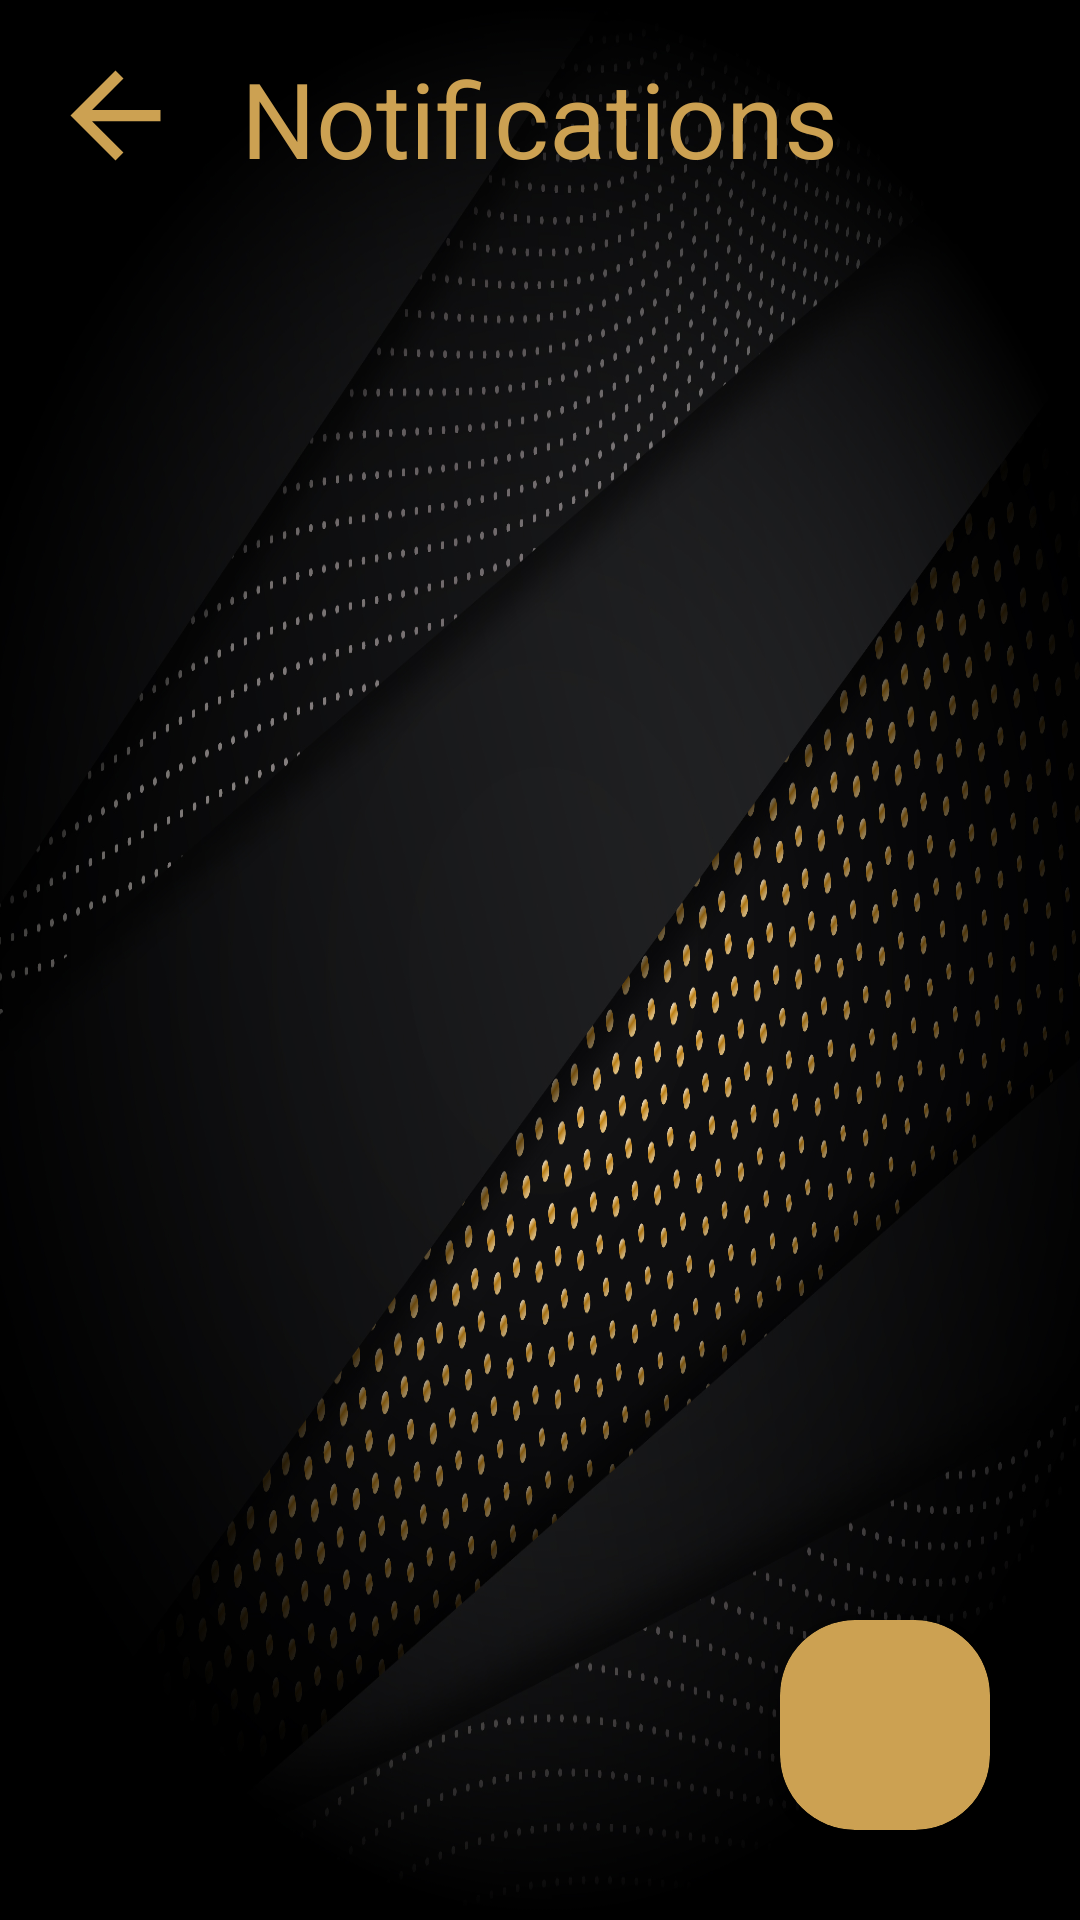

Point at icon controls on the screen. Image size 1080w x 1920h, points as point (x, y).
arrow back: point (115, 115)
